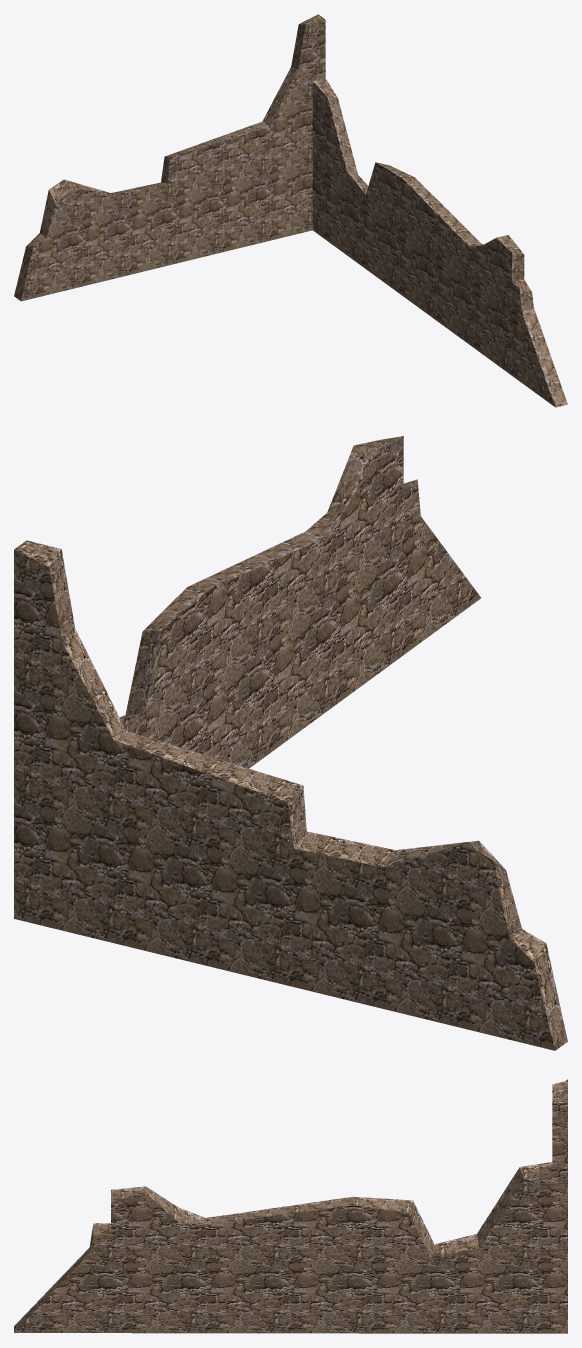
Rendered from stnwal02.glb.
The picture shows the model from 3 angles, top to bottom: view 1: azimuth 30°, elevation 25°; view 2: azimuth 150°, elevation 25°; view 3: azimuth 270°, elevation 25°; orthographic projection. The views are drawn at different scales.
Visible parts, largest first — view 1: _stnwal02; view 2: _stnwal02; view 3: _stnwal02.
Part boxes in pixels (left/top/right/bottom): _stnwal02: left=14, top=14, right=567, bottom=407; _stnwal02: left=14, top=436, right=567, bottom=1050; _stnwal02: left=14, top=1079, right=567, bottom=1333.
Bounding box in the file's own units: 8.12 × 5.29 × 11.56.
1 material, 1 textured.
